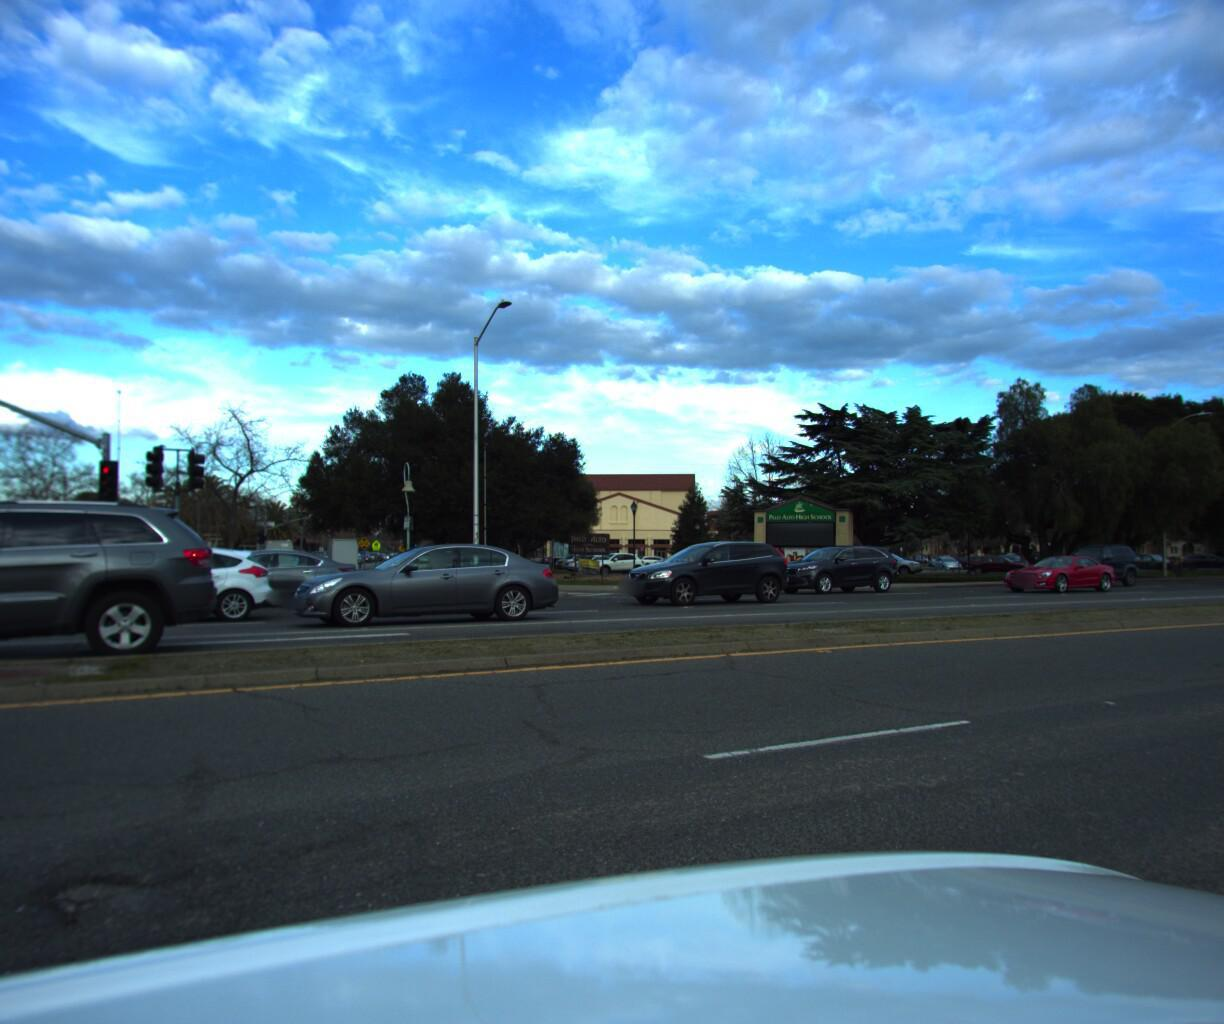car: (0, 498, 249, 692), (277, 537, 564, 641), (16, 541, 272, 635), (609, 535, 793, 608), (180, 547, 385, 608), (764, 538, 903, 591), (991, 547, 1119, 590), (1050, 539, 1156, 583), (1214, 545, 1224, 581)
